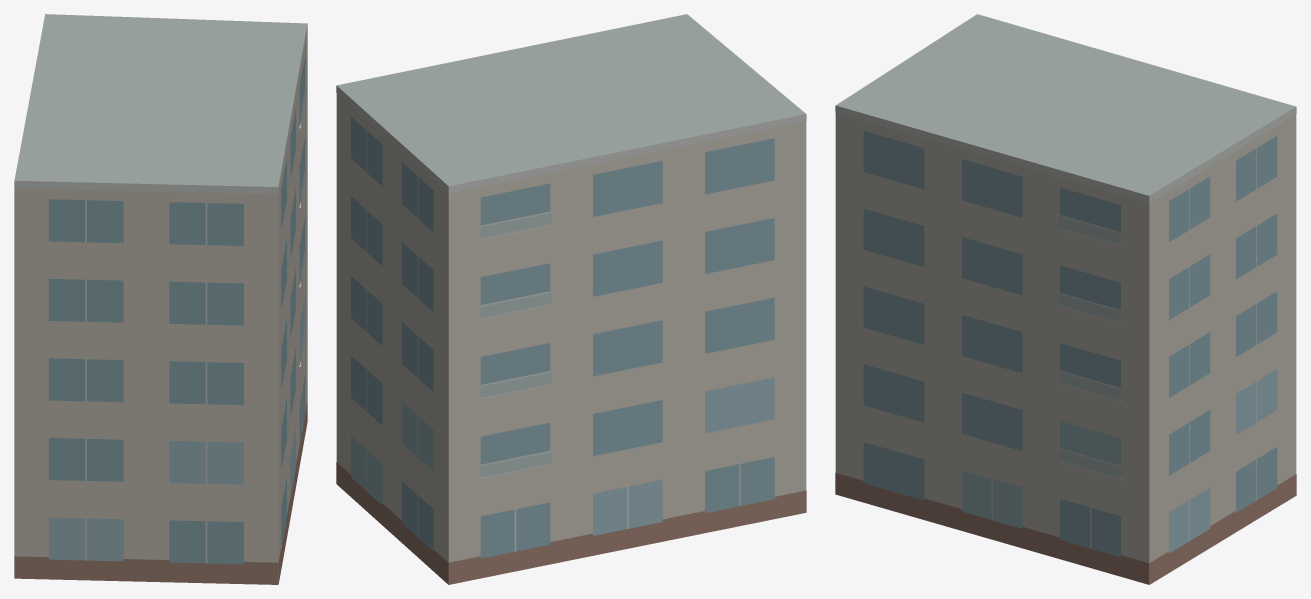
Rendered from survey-upis-32983616.glb.
3 renders of one model, left to right at view 1: azimuth 30°, elevation 25°; view 2: azimuth 150°, elevation 25°; view 3: azimuth 270°, elevation 25°, orthographic. The views are drawn at different scales.
Parts seen in each view (by area): view 1: survey-upis-32983616.tmp; view 2: survey-upis-32983616.tmp; view 3: survey-upis-32983616.tmp.
Part boxes in pixels (x1,y1,x2,y2): survey-upis-32983616.tmp: (14, 14, 307, 584); survey-upis-32983616.tmp: (336, 14, 806, 584); survey-upis-32983616.tmp: (835, 14, 1296, 584).
Size of the model in its own units: 13.14 by 13.1 by 14.08.
